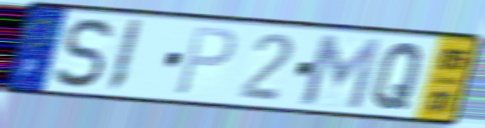2: (236, 31, 295, 103)
I: (103, 17, 146, 95)
M: (299, 31, 385, 112)
P: (172, 24, 240, 98)
Q: (369, 40, 427, 112)
S: (51, 16, 115, 91)
